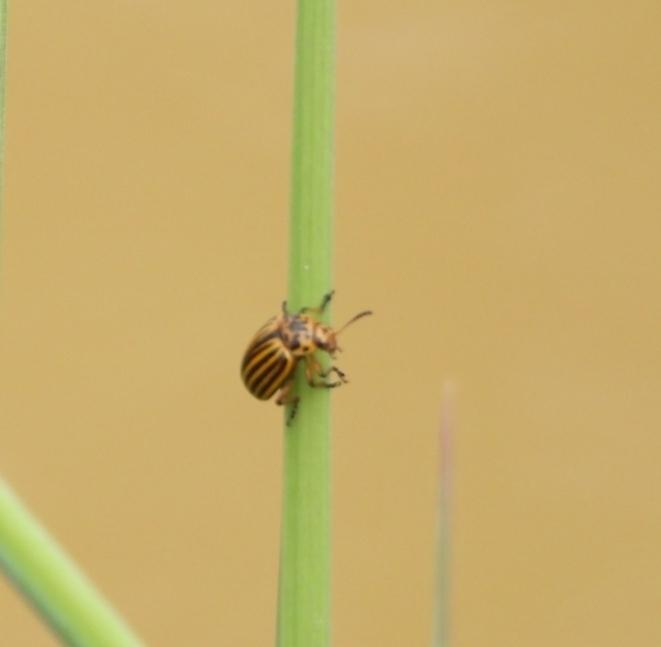potato_beetle: (213, 272, 398, 443)
